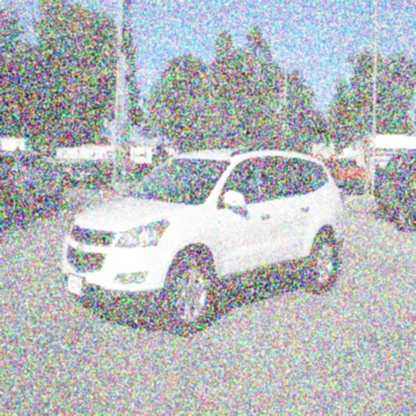Vehicle: (56, 142, 348, 339)
